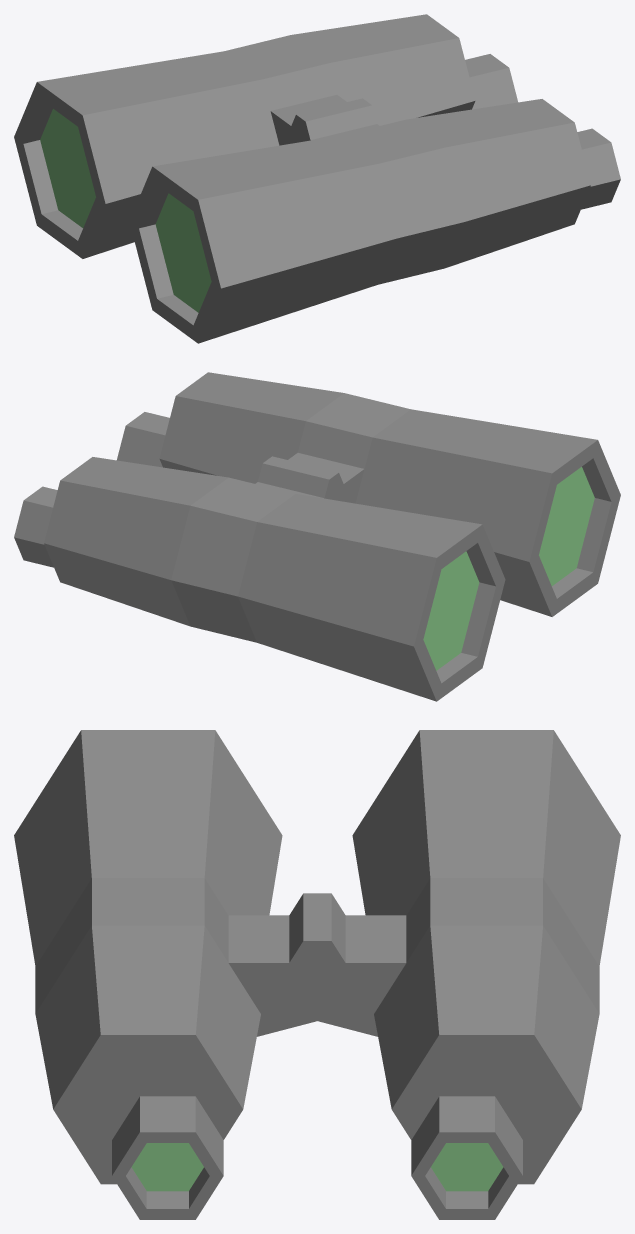
Rendered from Binoculars.fbx.
The picture shows the model from 3 angles, top to bottom: view 1: azimuth 30°, elevation 25°; view 2: azimuth 150°, elevation 25°; view 3: azimuth 270°, elevation 25°; orthographic projection. The views are drawn at different scales.
Visible parts, largest first — view 1: Binoculars; view 2: Binoculars; view 3: Binoculars.
Boxes of the visible parts, x1,y1,x2,y2 form: Binoculars: (14, 14, 620, 343); Binoculars: (14, 372, 620, 701); Binoculars: (14, 730, 620, 1219).
Bounding box in the file's own units: 0.2158 × 0.0684 × 0.1786.
